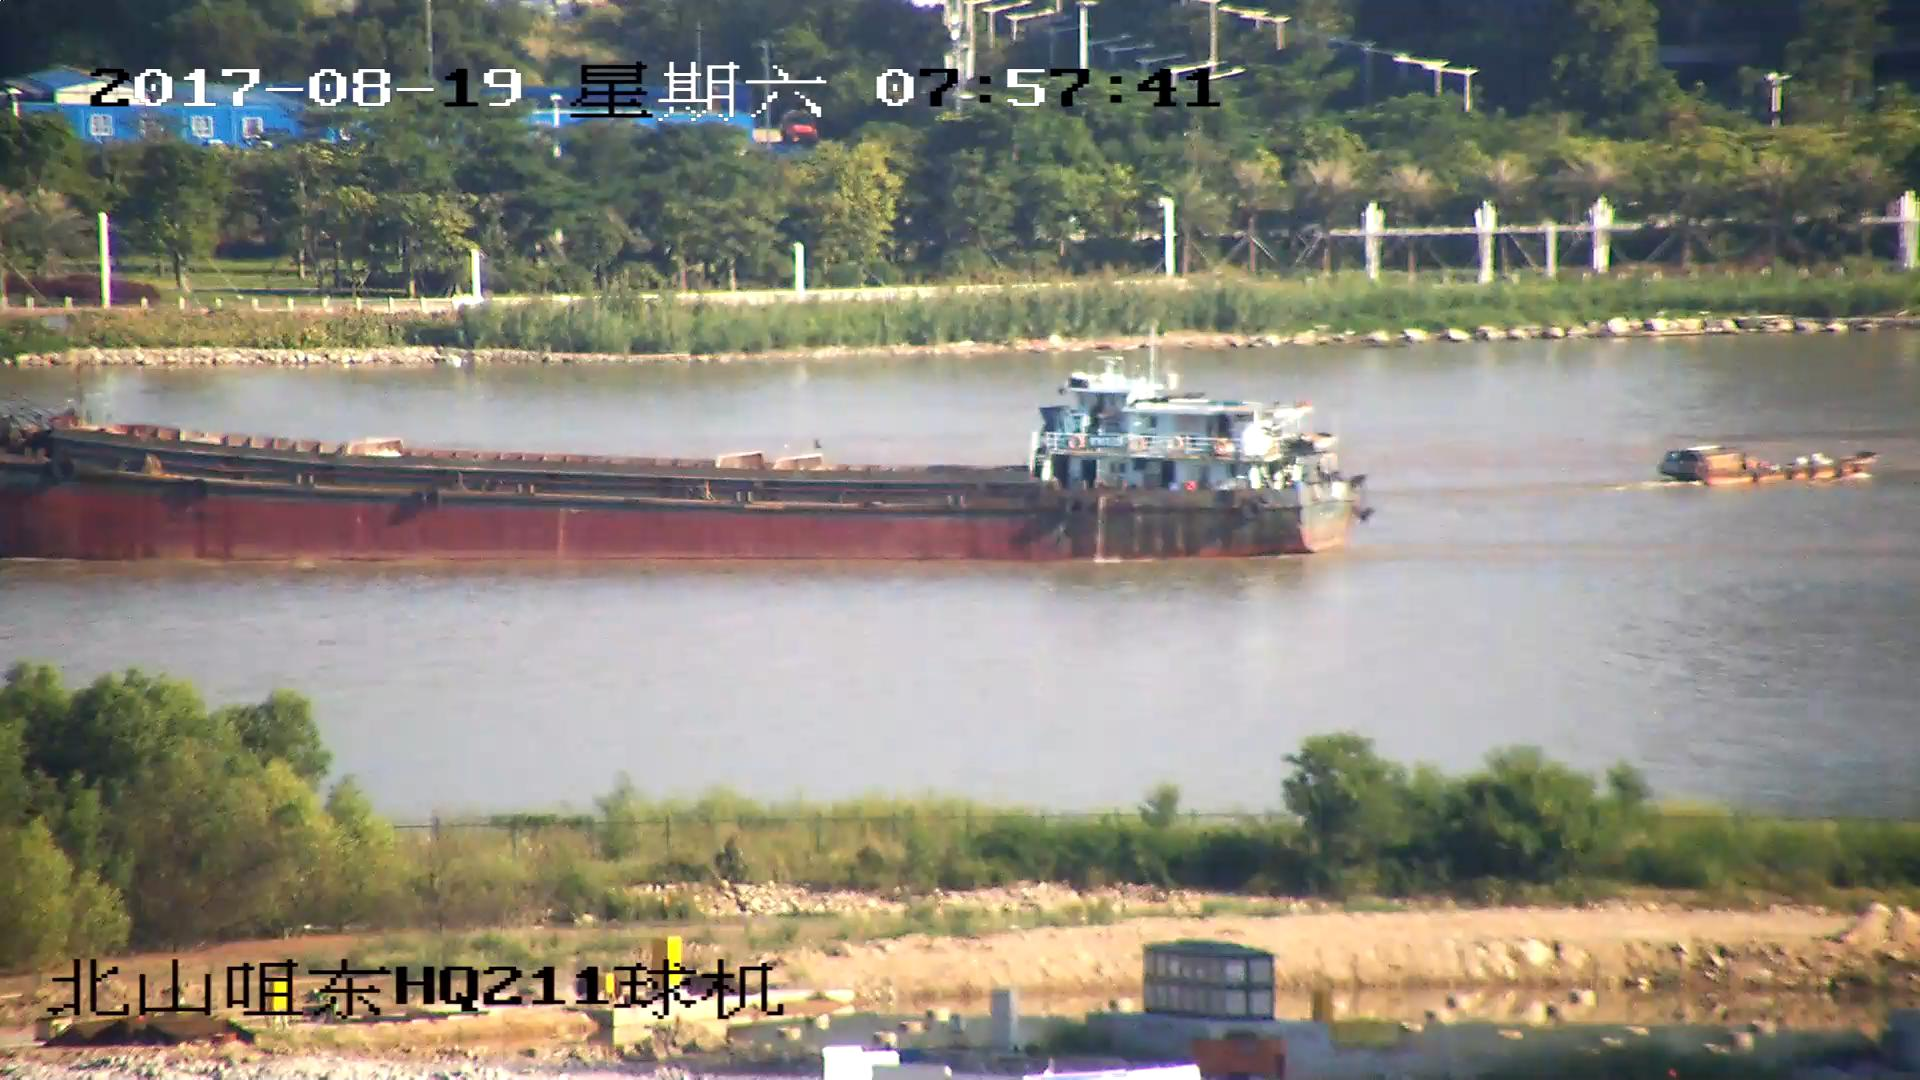bulk cargo carrier: (1, 345, 1363, 566)
fishing boat: (1659, 442, 1877, 488)
